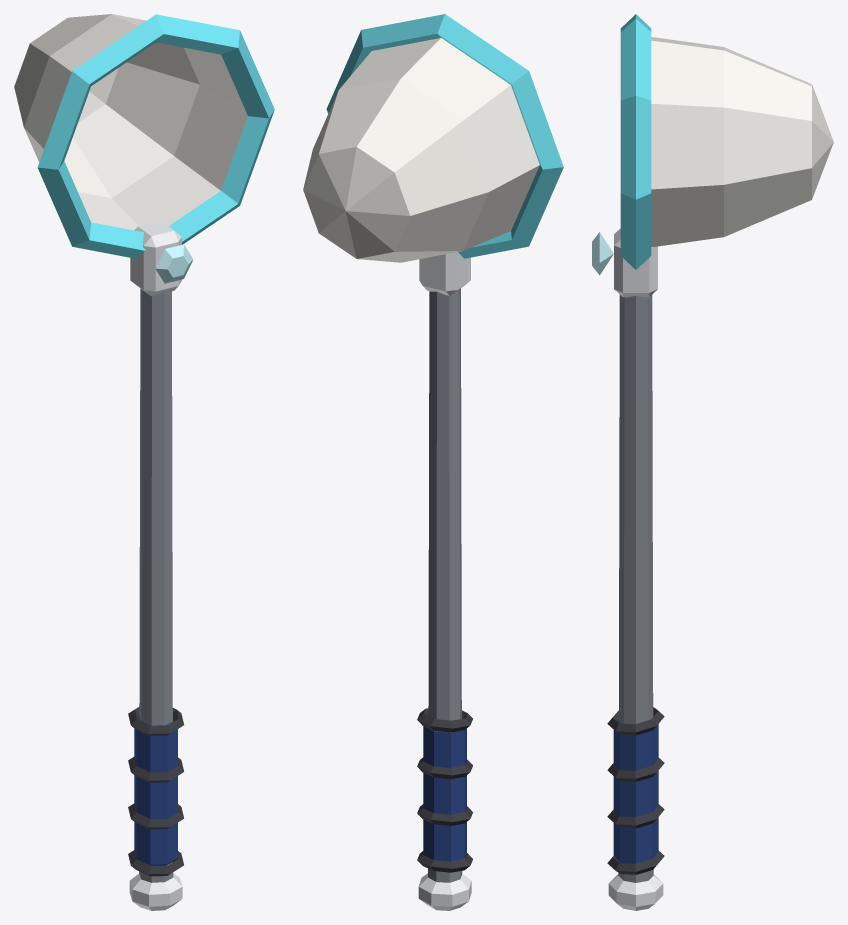
Rendered from DiamondBugNet.fbx.
The picture shows the model from 3 angles, left to right: view 1: azimuth 30°, elevation 25°; view 2: azimuth 150°, elevation 25°; view 3: azimuth 270°, elevation 25°; orthographic projection.
Visible parts, largest first — view 1: DiamondBugNet; view 2: DiamondBugNet; view 3: DiamondBugNet.
Part boxes in pixels (left/top/right/bottom): DiamondBugNet: left=14, top=14, right=274, bottom=910; DiamondBugNet: left=303, top=14, right=563, bottom=910; DiamondBugNet: left=592, top=14, right=833, bottom=910.
Size of the model in its own units: 1.24 by 4.44 by 1.1.
1 material, 1 textured.
